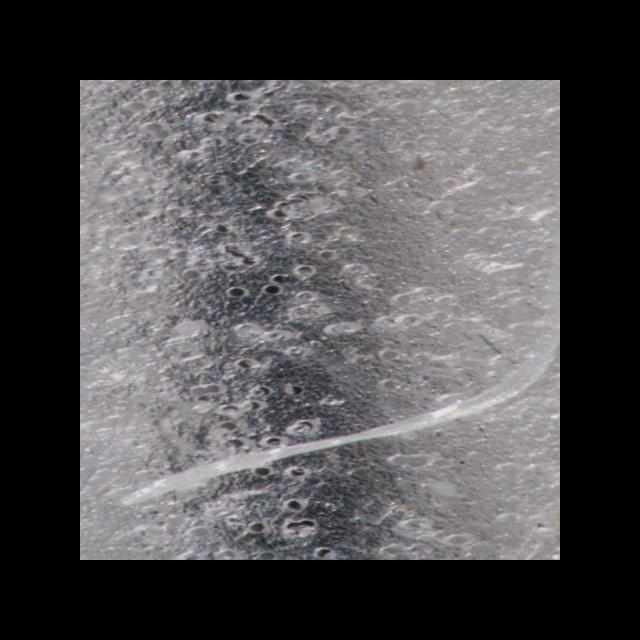Fibre: (108, 107, 560, 517)
